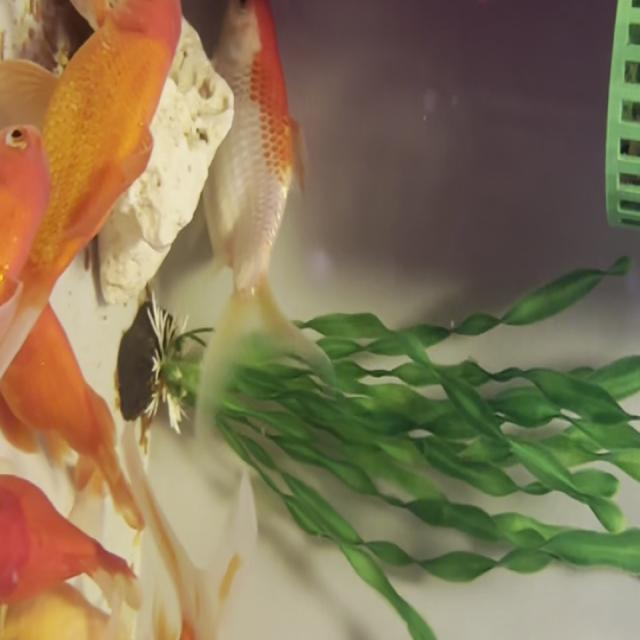fish: (3, 0, 183, 292), (48, 411, 248, 640), (0, 292, 141, 530), (204, 0, 304, 300), (0, 470, 132, 624)
